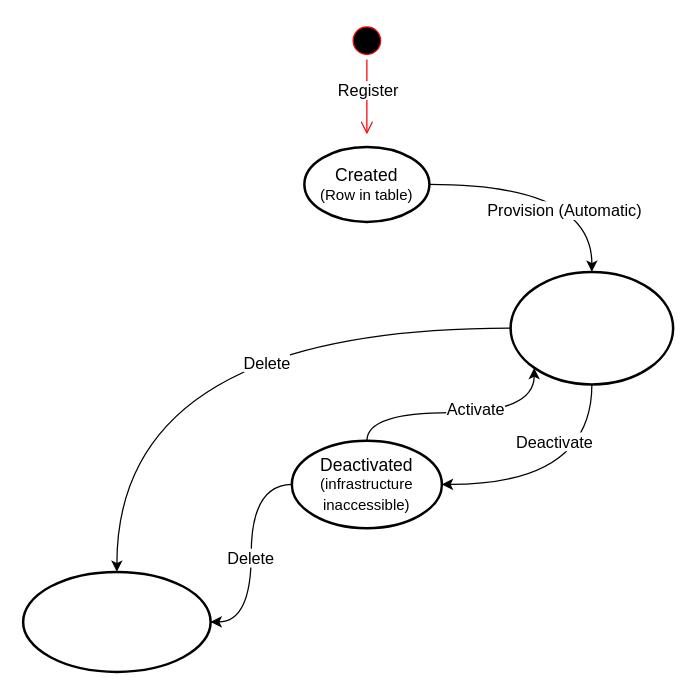
Image size: 695x695. Some labels were removed from this diagram. Here are the shapes that lost their labels. From the top down, the centre of each, then its label:
point 591,327: Provisioned (infrastructure created & accessible)
point 116,621: Deleted (infrastructure deprovisioned)
